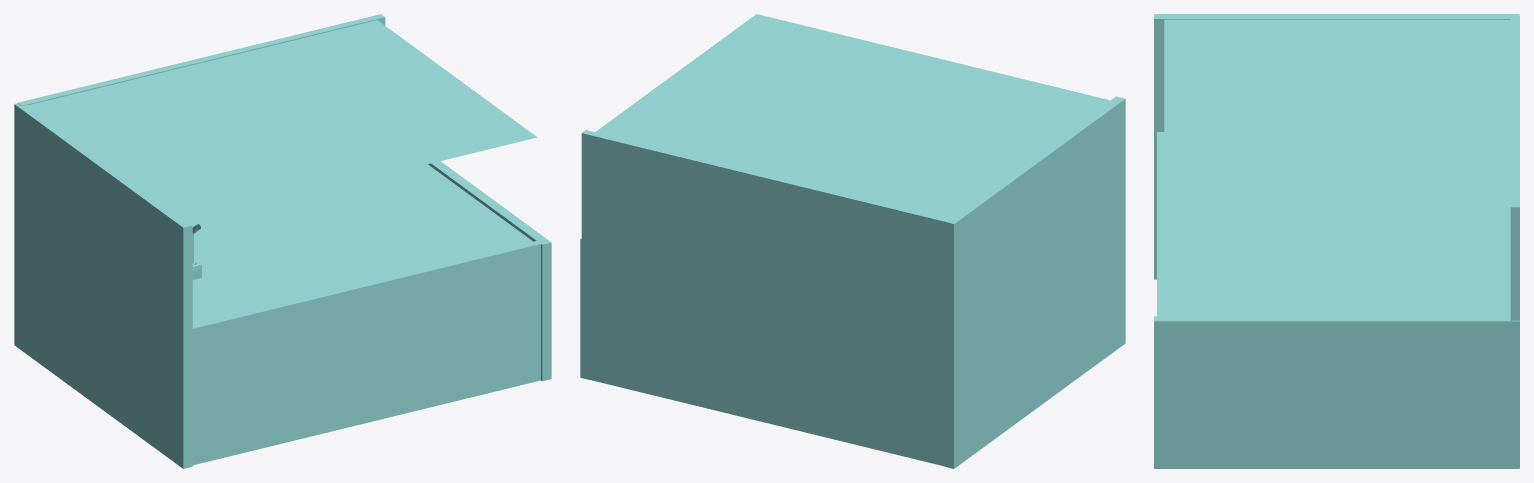
The model's file is FYP_foyer_room.fbx.
3 renders of one model, left to right at view 1: azimuth 30°, elevation 25°; view 2: azimuth 150°, elevation 25°; view 3: azimuth 270°, elevation 25°, orthographic. The views are drawn at different scales.
Parts seen in each view (by area): view 1: ceiling_upper, wall03, wall01, ceiling, wall04, wall02; view 2: wall02, ceiling_upper, wall01; view 3: ceiling_upper, wall04, ceiling, wall01, wall02, wall03.
Part boxes in pixels (x1,y1,x2,y2): ceiling_upper: (29, 20, 537, 222); wall03: (192, 240, 541, 465); wall01: (14, 103, 192, 468); ceiling: (189, 164, 532, 324); wall04: (428, 161, 551, 381); wall02: (18, 14, 385, 105); wall02: (581, 130, 954, 467); ceiling_upper: (595, 14, 1109, 218); wall01: (945, 96, 1125, 468); ceiling_upper: (1164, 19, 1510, 203); wall04: (1154, 316, 1519, 468); ceiling: (1166, 204, 1510, 316); wall01: (1154, 14, 1519, 279); wall02: (1510, 15, 1519, 467); wall03: (1157, 132, 1165, 320).
Bounding box in the file's own units: 317 × 200 × 252.
